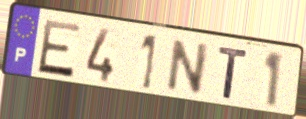1: (261, 49, 284, 110), (138, 33, 159, 91)
4: (84, 25, 117, 84)
E: (35, 18, 83, 80)
N: (163, 37, 212, 97)
T: (216, 45, 250, 102)
